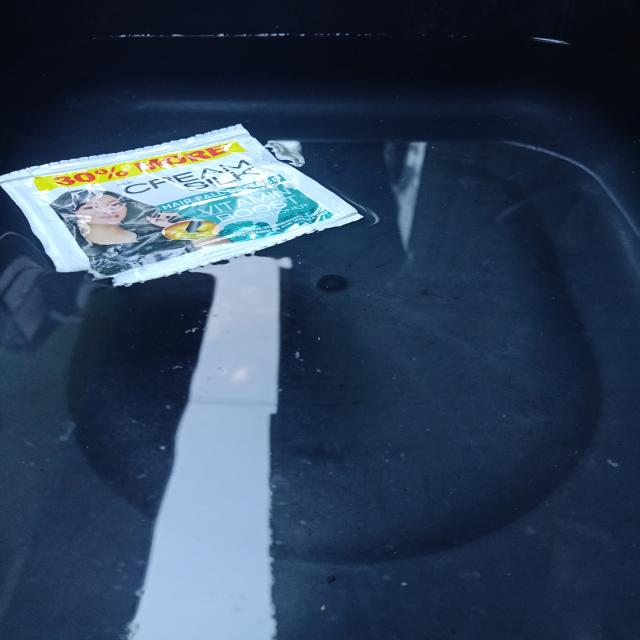Plastic Wrapper: (0, 124, 362, 286)
